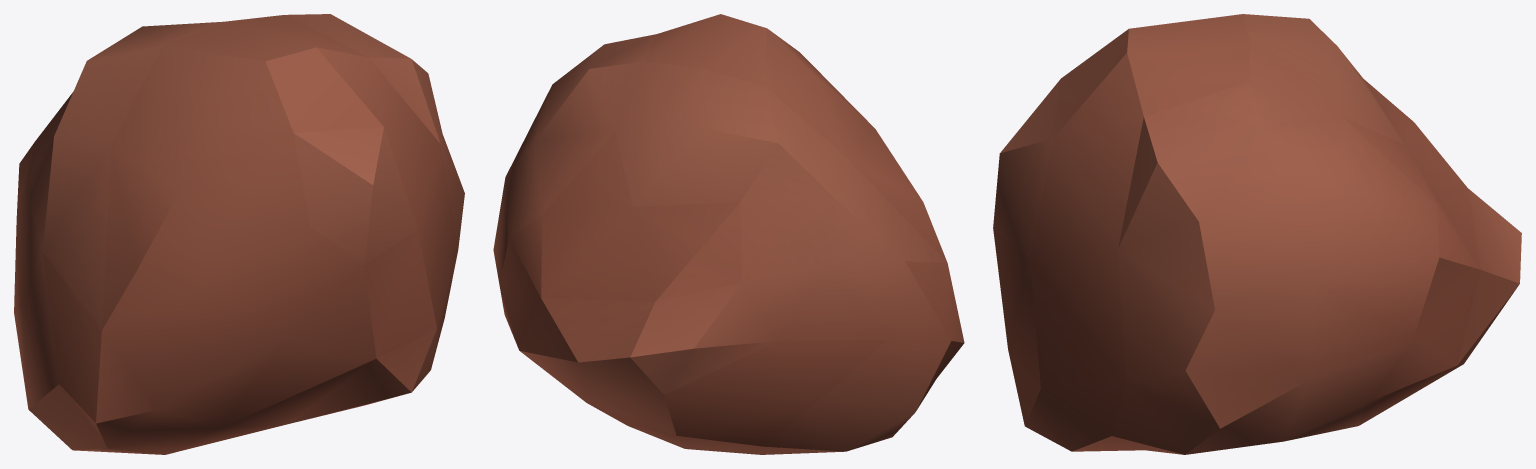
Rendered from Rock_3_K_Color2.fbx.
The picture shows the model from 3 angles, left to right: view 1: azimuth 30°, elevation 25°; view 2: azimuth 150°, elevation 25°; view 3: azimuth 270°, elevation 25°; orthographic projection. The views are drawn at different scales.
Parts seen in each view (by area): view 1: Rock_3_K_Color2; view 2: Rock_3_K_Color2; view 3: Rock_3_K_Color2.
Boxes of the visible parts, x1,y1,x2,y2 form: Rock_3_K_Color2: [14, 14, 464, 454]; Rock_3_K_Color2: [493, 14, 964, 454]; Rock_3_K_Color2: [993, 14, 1521, 454].
Size of the model in its own units: 2.61 by 2.22 by 2.59.
